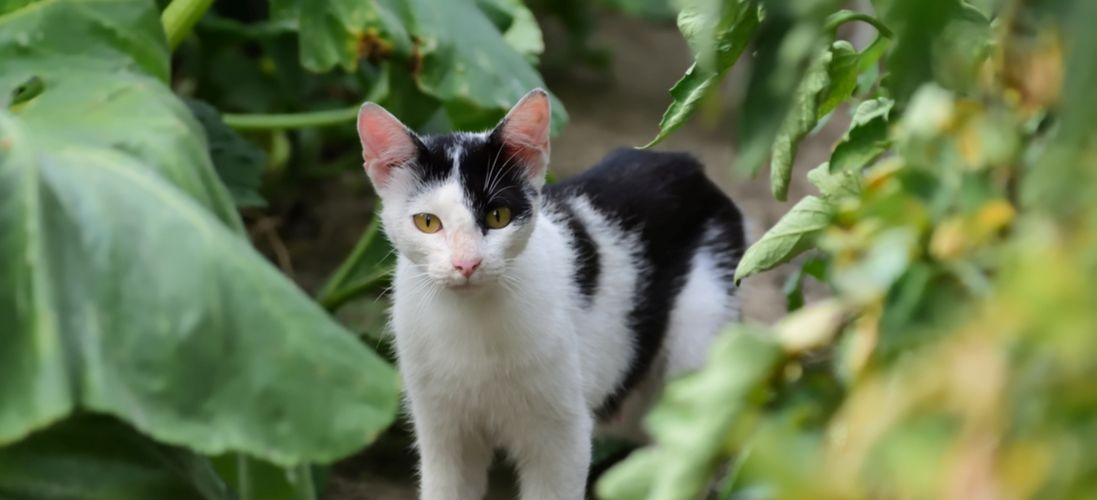Cat: (326, 76, 783, 500)
